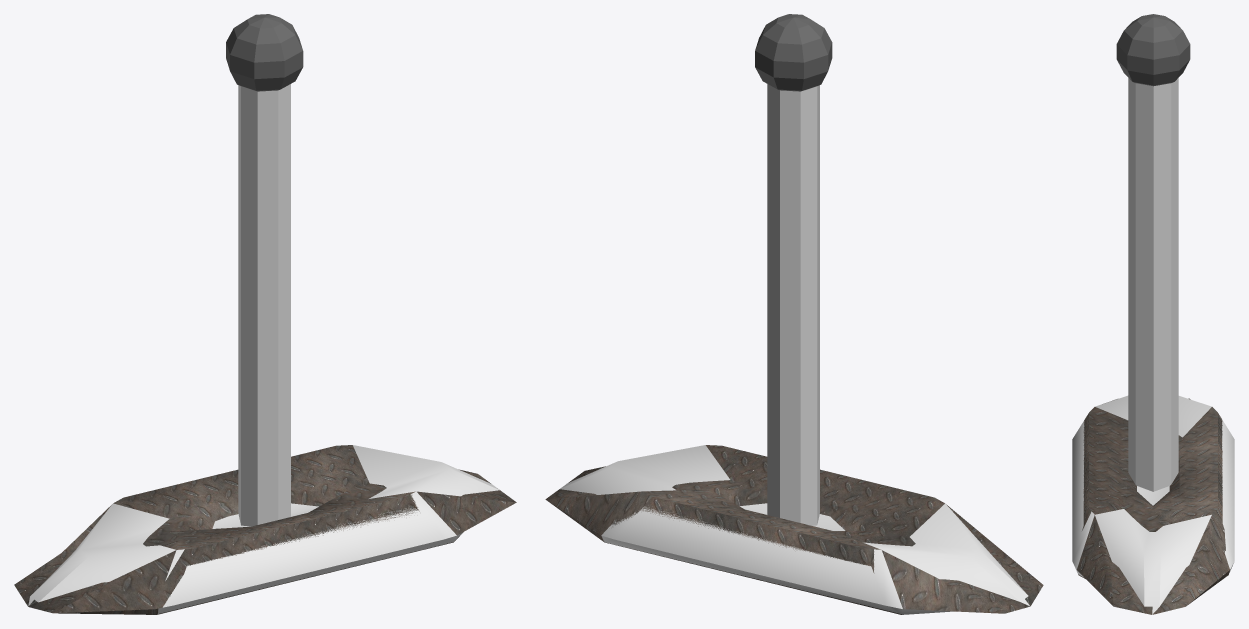
Rendered from SmakTest3.dae.
The picture shows the model from 3 angles, left to right: view 1: azimuth 30°, elevation 25°; view 2: azimuth 150°, elevation 25°; view 3: azimuth 270°, elevation 25°; orthographic projection. The views are drawn at different scales.
Visible parts, largest first — view 1: transform2, pCube1, polySurface3, transform1, transform4; view 2: pCube1, transform2, polySurface3, transform1, transform4; view 3: transform2, polySurface3, pCube1, transform1, transform4.
Boxes of the visible parts, bbox=[...] form: transform2: bbox=[238, 84, 290, 526]; pCube1: bbox=[28, 445, 499, 613]; polySurface3: bbox=[14, 445, 516, 614]; transform1: bbox=[226, 14, 303, 91]; transform4: bbox=[15, 445, 516, 608]; pCube1: bbox=[559, 445, 1030, 614]; transform2: bbox=[767, 84, 819, 525]; polySurface3: bbox=[546, 445, 1043, 614]; transform1: bbox=[755, 14, 832, 91]; transform4: bbox=[545, 467, 1034, 613]; transform2: bbox=[1128, 78, 1178, 491]; polySurface3: bbox=[1078, 398, 1228, 614]; pCube1: bbox=[1072, 395, 1234, 614]; transform1: bbox=[1116, 14, 1190, 86]; transform4: bbox=[1077, 453, 1229, 610].
Bounding box in the file's own units: 4.01 × 4.3 × 1.29.
